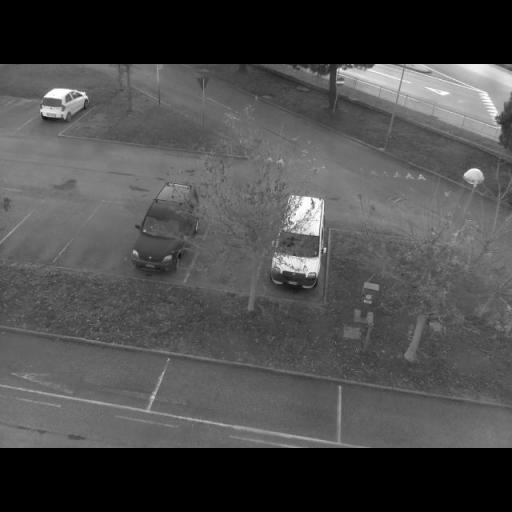busy: (127, 189, 209, 275), (267, 254, 325, 290), (35, 88, 91, 123)
free: (360, 386, 464, 448), (190, 370, 304, 422), (20, 348, 114, 392), (204, 223, 265, 289), (85, 214, 139, 263), (24, 220, 68, 254), (6, 98, 31, 126)
